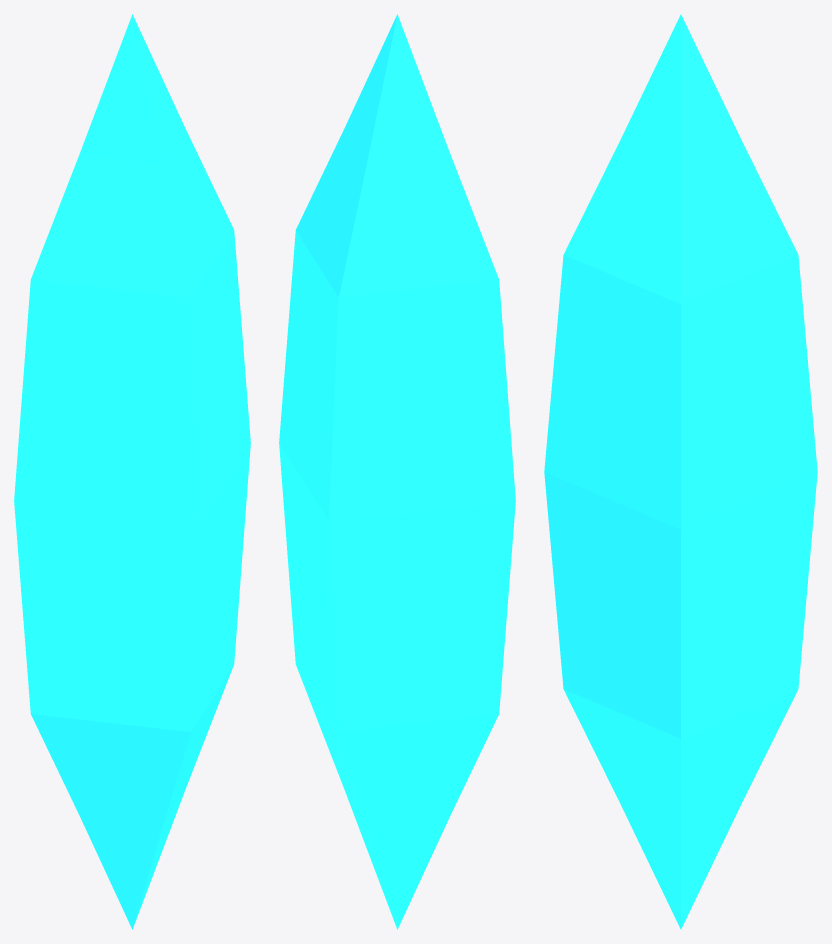
File: Project02_Asset_Blue_Crystal.fbx
3 renders of one model, left to right at view 1: azimuth 30°, elevation 25°; view 2: azimuth 150°, elevation 25°; view 3: azimuth 270°, elevation 25°, orthographic.
Parts seen in each view (by area): view 1: Crystal 2; view 2: Crystal 2; view 3: Crystal 2.
Boxes of the visible parts, <box> form: Crystal 2: <box>14,14,250,929</box>; Crystal 2: <box>279,14,515,929</box>; Crystal 2: <box>544,14,817,929</box>.
Bounding box in the file's own units: 14.96 × 55.28 × 14.96.
